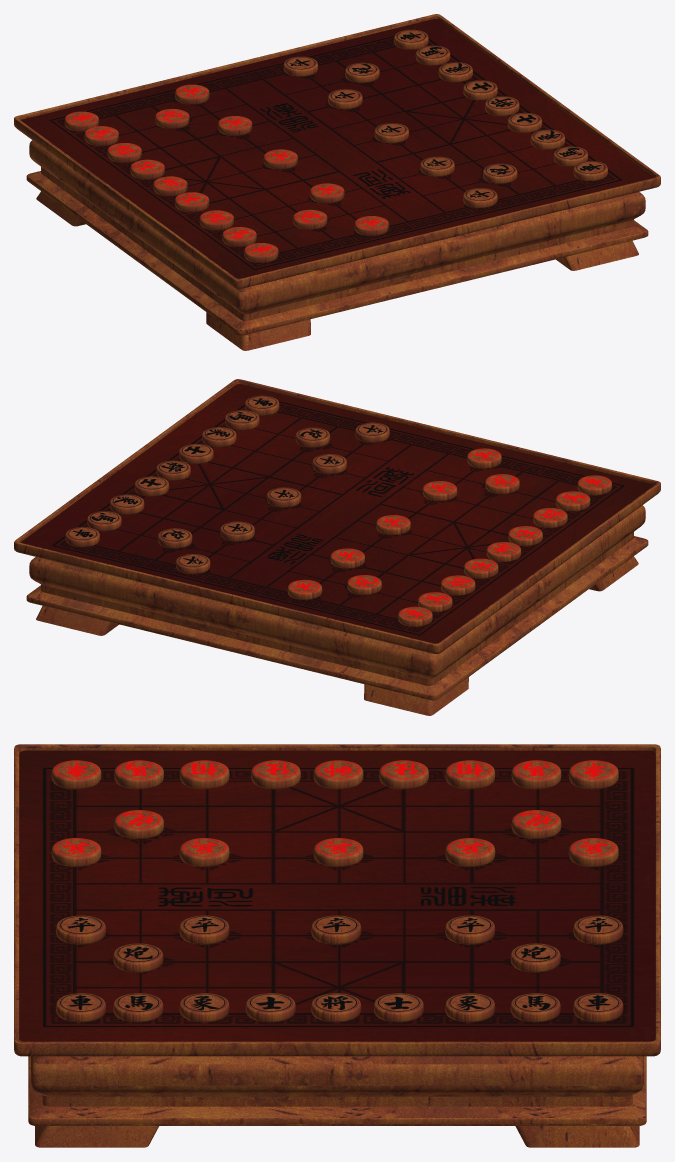
File: obj_chinese_chess_93452f.glb
3 renders of one model, top to bottom at view 1: azimuth 30°, elevation 25°; view 2: azimuth 150°, elevation 25°; view 3: azimuth 270°, elevation 25°, orthographic. The views are drawn at different scales.
Visible parts, largest first — view 1: obj_chinese_chess_93452f; view 2: obj_chinese_chess_93452f; view 3: obj_chinese_chess_93452f.
Part boxes in pixels (bbox=[...]): obj_chinese_chess_93452f: bbox=[14, 14, 660, 350]; obj_chinese_chess_93452f: bbox=[14, 379, 660, 715]; obj_chinese_chess_93452f: bbox=[14, 744, 660, 1147].
Bounding box in the file's own units: 0.4 × 0.0753 × 0.3647.
16 materials, 16 textured.
